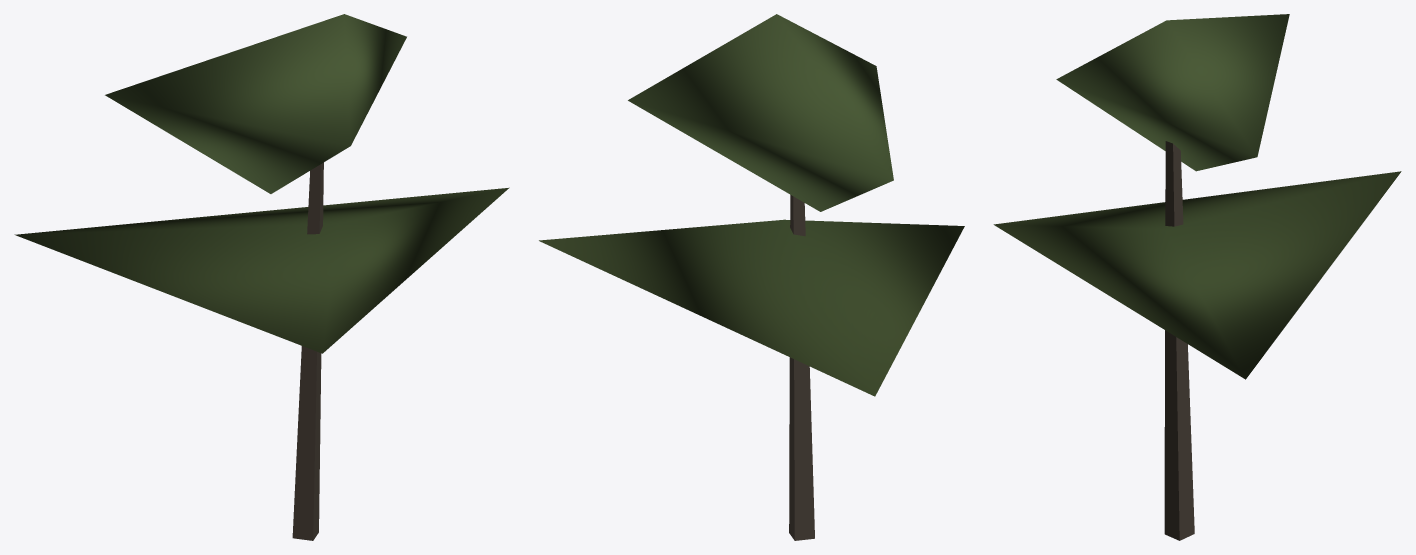
File: horizontal_tiered_lod2.glb
3 views of the same model, side by side, from view 1: azimuth 30°, elevation 25°; view 2: azimuth 150°, elevation 25°; view 3: azimuth 270°, elevation 25° (orthographic). The views are drawn at different scales.
Parts seen in each view (by area): view 1: horizontal_tiered_LOD2; view 2: horizontal_tiered_LOD2; view 3: horizontal_tiered_LOD2.
Boxes of the visible parts, x1=… form: horizontal_tiered_LOD2: x1=14, y1=14, x2=509, y2=540; horizontal_tiered_LOD2: x1=539, y1=14, x2=964, y2=540; horizontal_tiered_LOD2: x1=993, y1=14, x2=1401, y2=540.
Size of the model in its own units: 7.81 by 9.24 by 6.45.
